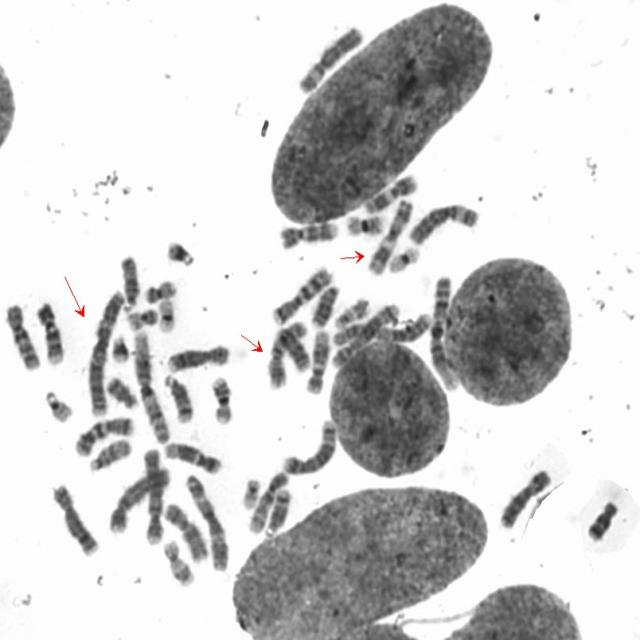A1: (129, 326, 172, 444), (424, 271, 462, 392)
A2: (84, 283, 128, 420), (265, 320, 314, 392)
A3: (182, 468, 232, 572), (364, 194, 415, 276)
B4: (104, 460, 173, 536), (138, 440, 168, 546)
B5: (327, 298, 402, 369), (279, 414, 338, 477)
C10: (244, 465, 292, 536), (0, 297, 43, 372)
C11: (364, 194, 415, 276), (360, 168, 419, 214)
C12: (160, 436, 224, 476), (301, 324, 331, 395)
C6: (294, 20, 365, 96), (404, 197, 482, 246)
C7: (268, 261, 336, 325), (71, 411, 137, 457)
C8: (48, 478, 101, 558), (163, 338, 233, 374)
C9: (32, 296, 67, 367), (275, 215, 341, 250)
D13: (308, 279, 342, 329), (276, 329, 310, 374)
D14: (159, 369, 196, 424), (261, 483, 294, 537)
D15: (85, 433, 134, 472), (116, 250, 143, 314)
E16: (207, 371, 236, 426), (342, 208, 388, 237)
E17: (160, 535, 197, 588), (330, 292, 372, 331)
E18: (582, 494, 622, 543), (103, 370, 141, 411)
F19: (384, 241, 422, 274), (154, 293, 178, 334)
F20: (140, 274, 179, 304), (123, 302, 160, 330)
G21: (162, 234, 198, 268), (107, 329, 132, 365)
G22: (40, 385, 76, 424), (238, 472, 263, 510)
X: (495, 464, 553, 530), (161, 497, 211, 563)
